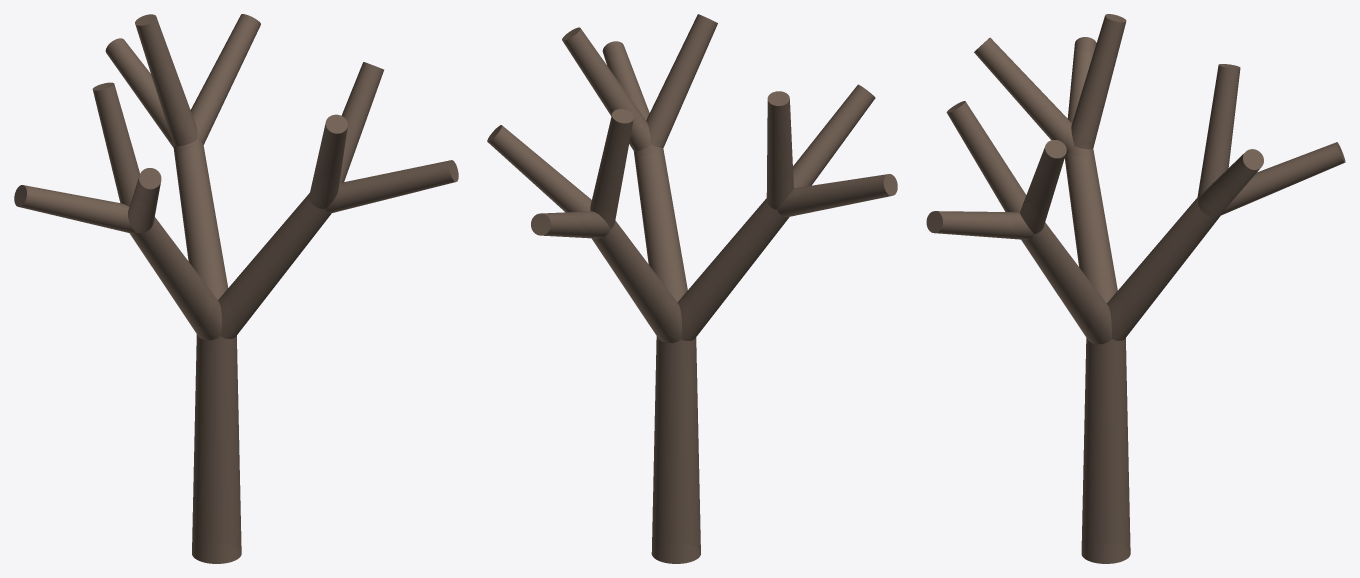
The model's file is fractaltree2.glb.
3 views of the same model, side by side, from view 1: azimuth 30°, elevation 25°; view 2: azimuth 150°, elevation 25°; view 3: azimuth 270°, elevation 25° (orthographic).
Size of the model in its own units: 5.87 by 7.52 by 5.87.
